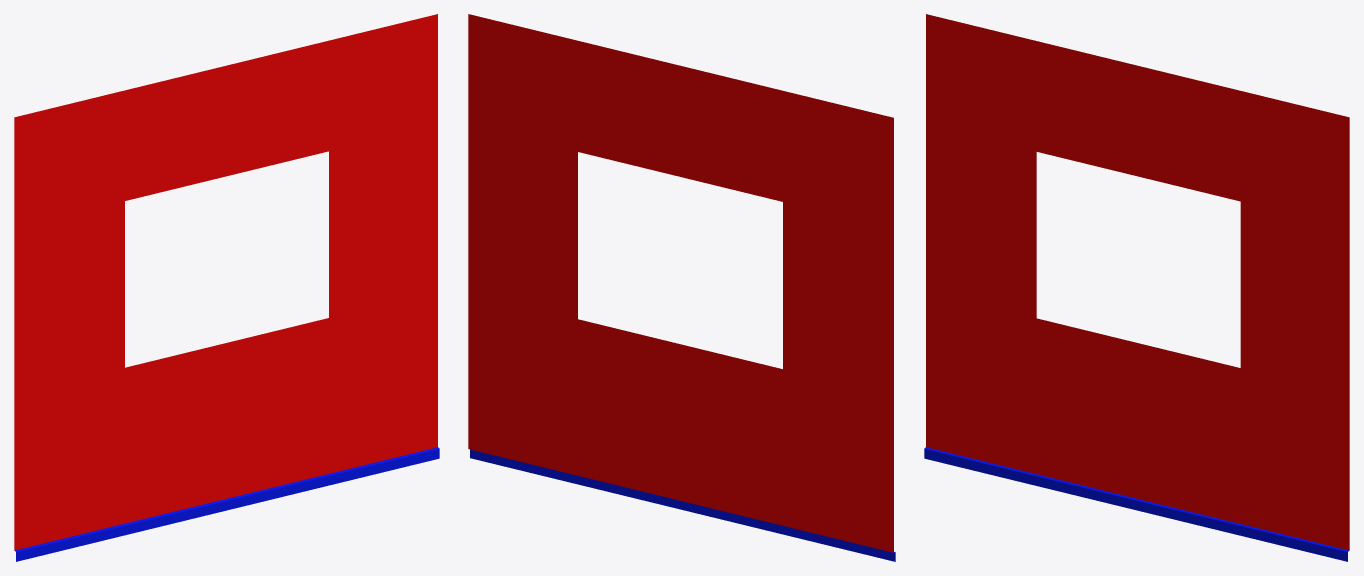
The model's file is Wall_WindowFrame.fbx.
3 renders of one model, left to right at view 1: azimuth 30°, elevation 25°; view 2: azimuth 150°, elevation 25°; view 3: azimuth 330°, elevation 25°, orthographic.
Visible parts, largest first — view 1: Wall_WindowFrame; view 2: Wall_WindowFrame; view 3: Wall_WindowFrame.
Part boxes in pixels (x1,y1,x2,y2): Wall_WindowFrame: (14,14,439,561); Wall_WindowFrame: (468,14,895,561); Wall_WindowFrame: (924,14,1349,561).
Size of the model in its own units: 310 by 310 by 2.
